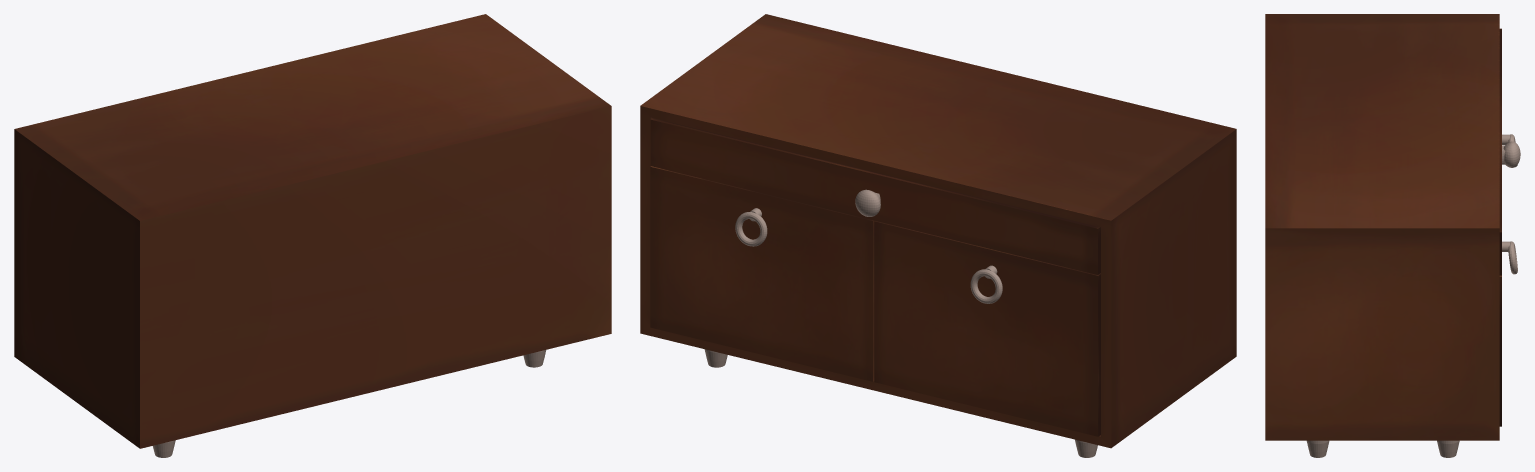
File: cabinet_mod.fbx
3 renders of one model, left to right at view 1: azimuth 30°, elevation 25°; view 2: azimuth 150°, elevation 25°; view 3: azimuth 270°, elevation 25°, orthographic. The views are drawn at different scales.
Parts seen in each view (by area): view 1: Cube.094; view 2: Cube.094, ручка12.001, ручка12; view 3: Cube.094, ручка, ножка.001, ножка.
Boxes of the visible parts, x1,y1,x2,y2 form: Cube.094: (14, 14, 611, 448); Cube.094: (640, 14, 1236, 448); ручка12.001: (735, 212, 767, 246); ручка12: (970, 269, 1002, 303); Cube.094: (1265, 14, 1501, 440); ручка: (1502, 141, 1520, 167); ножка.001: (1437, 440, 1459, 457); ножка: (1306, 440, 1329, 457).
Bounding box in the file's own units: 756 × 408 × 380.
Materials: 2 (1 with a texture image).
